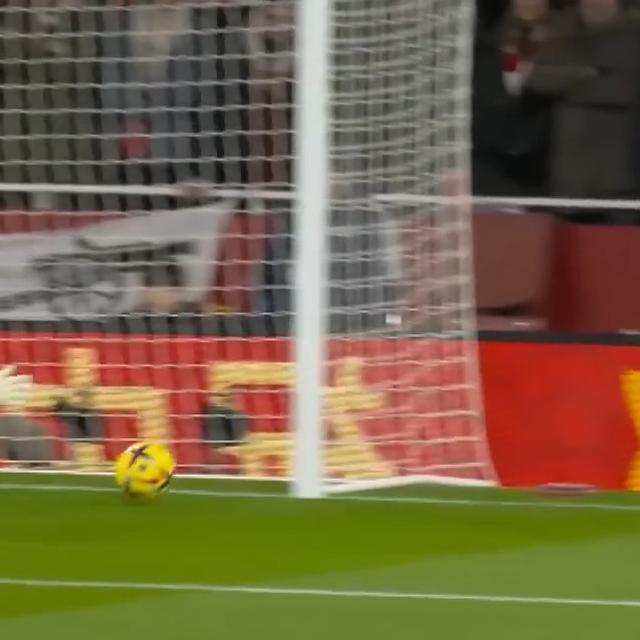ball: (112, 438, 178, 500)
